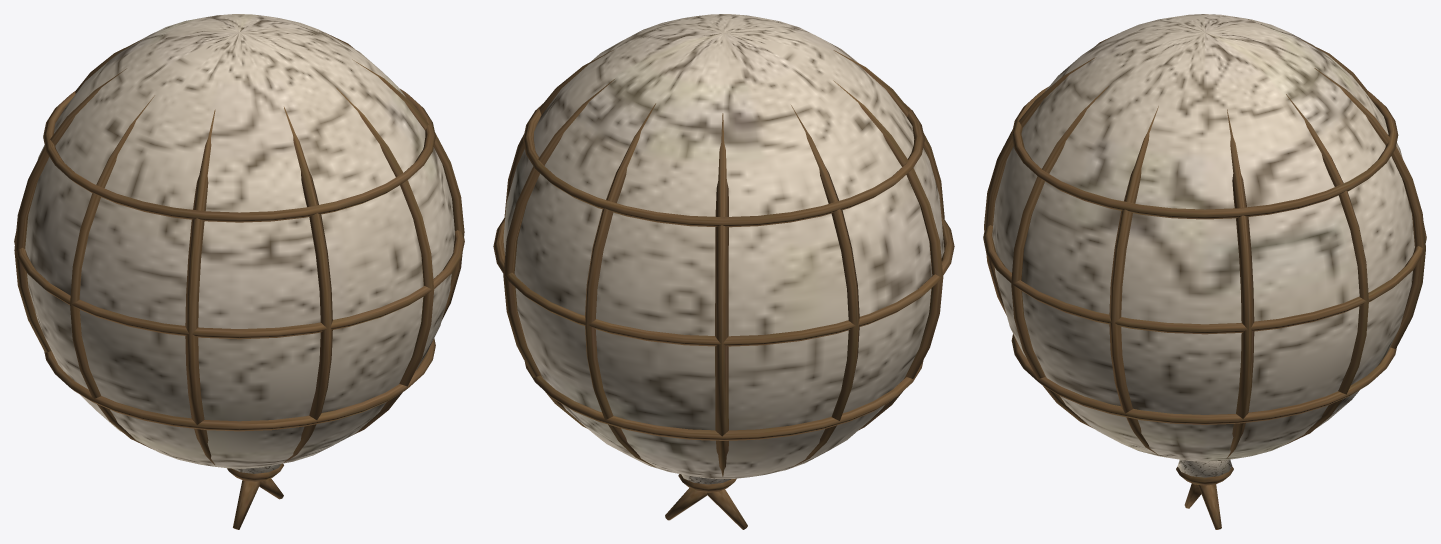
File: bloon_ceramic.glb
The picture shows the model from 3 angles, left to right: view 1: azimuth 30°, elevation 25°; view 2: azimuth 150°, elevation 25°; view 3: azimuth 270°, elevation 25°; orthographic projection. The views are drawn at different scales.
Parts seen in each view (by area): view 1: bloon_ceramic; view 2: bloon_ceramic; view 3: bloon_ceramic.
Boxes of the visible parts, box(x1,y1,x2,y2) form: bloon_ceramic: box(14, 14, 464, 529); bloon_ceramic: box(493, 14, 954, 529); bloon_ceramic: box(983, 14, 1426, 529).
Size of the model in its own units: 1.29 by 1.55 by 1.29.
Materials: 2 (2 with a texture image).
